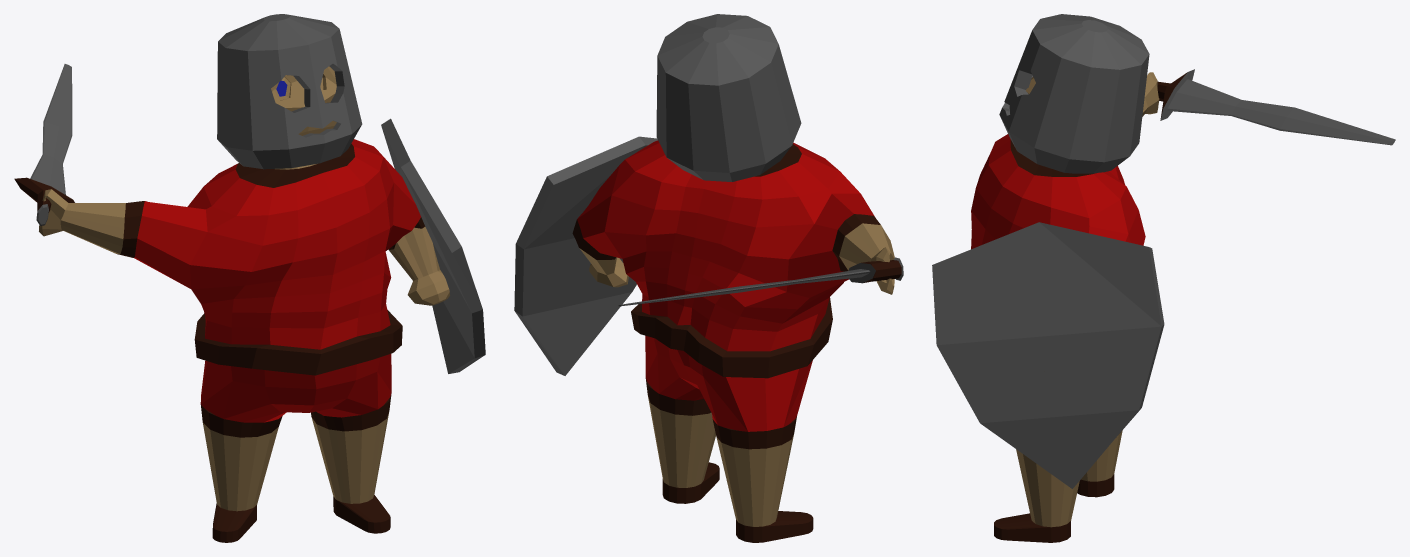
3 views of the same model, side by side, from view 1: azimuth 30°, elevation 25°; view 2: azimuth 150°, elevation 25°; view 3: azimuth 270°, elevation 25° (orthographic).
Parts seen in each view (by area): view 1: Circle_Circle.001; view 2: Circle_Circle.001; view 3: Circle_Circle.001.
Boxes of the visible parts, left/top/right/bottom form: Circle_Circle.001: left=14, top=14, right=485, bottom=542; Circle_Circle.001: left=514, top=14, right=903, bottom=542; Circle_Circle.001: left=932, top=14, right=1395, bottom=542.
Bounding box in the file's own units: 3.45 × 4.14 × 3.59.
